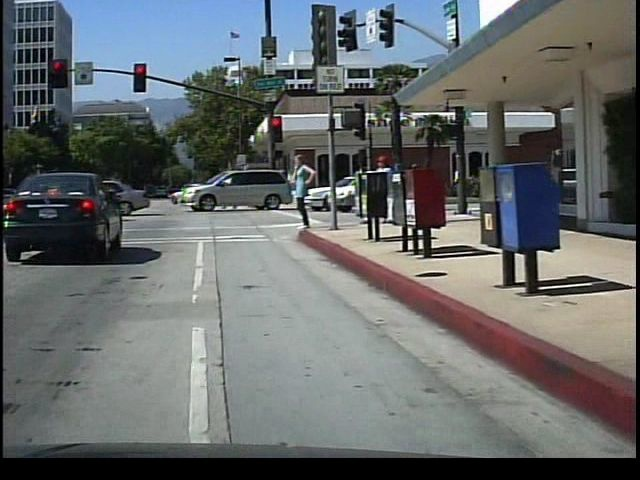person: (289, 147, 320, 233), (370, 149, 398, 225), (347, 149, 369, 214)
